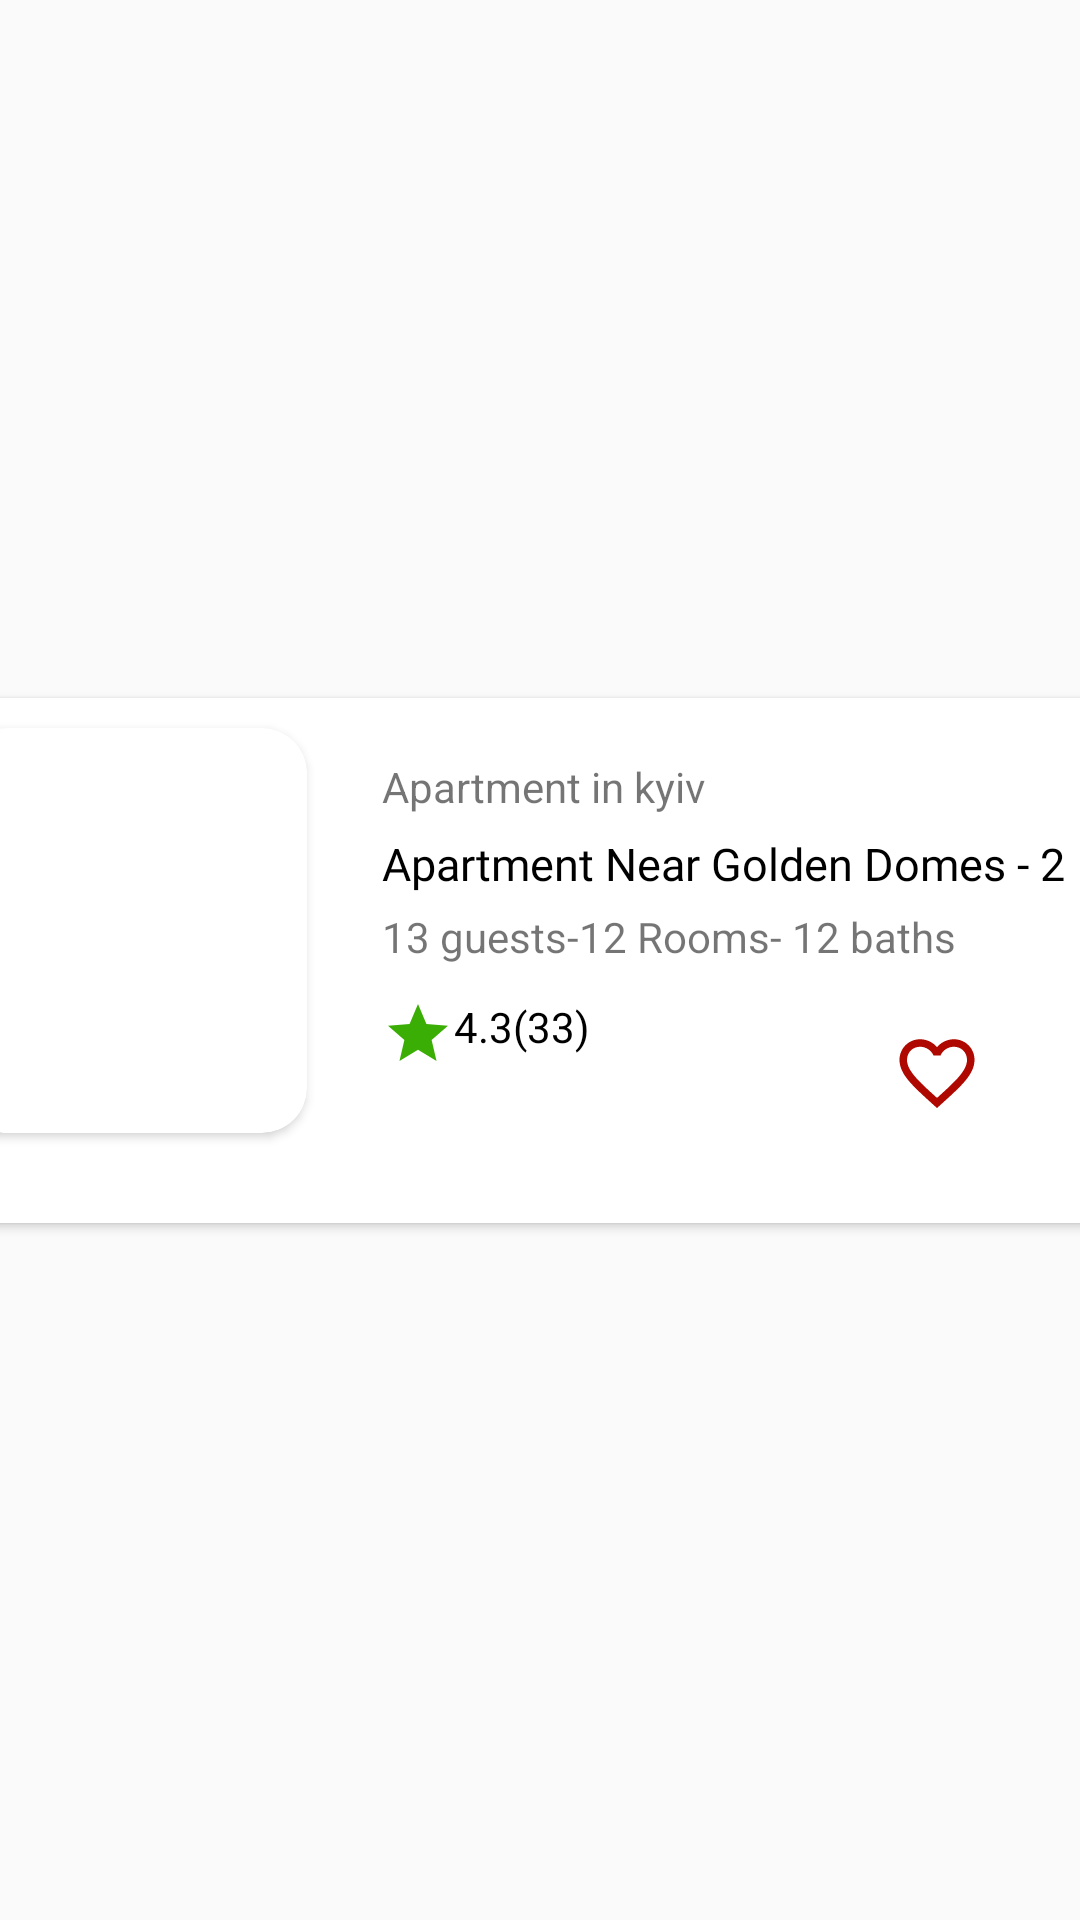

Named icons in this screenshot (1080*1920) and their bounding boxes, (x1, y1, x2, y2):
favorite border: (899, 1039, 975, 1108)
